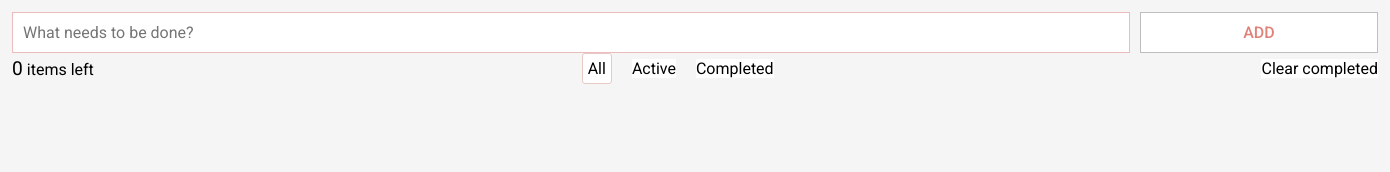
Test: TodoPage component › should delete completed todos when the "Clear completed" button is clicked
This screenshot has width=1390, height=172.
Type "Todo 1" into the field with test id "input" at (571, 32), box [12,12,1130,53]
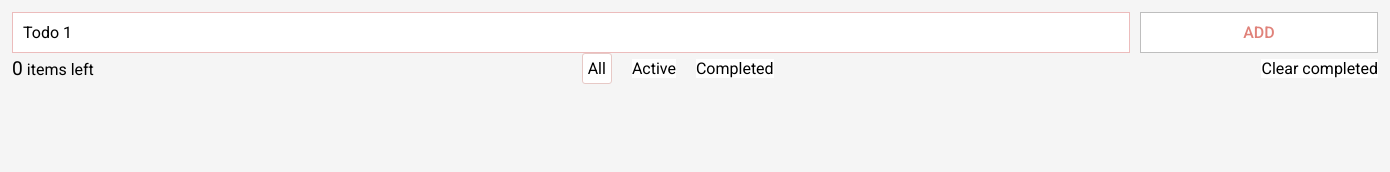
Click the button "Add" at (1259, 32), box [1140,12,1378,53]
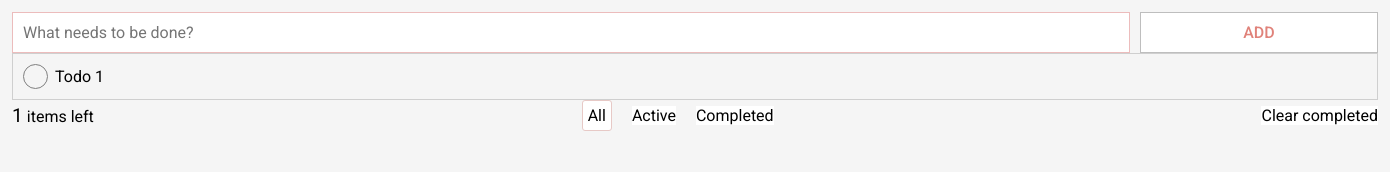
Click the checkbox with test id "checkbox" at (36, 76), box [23,64,48,89]
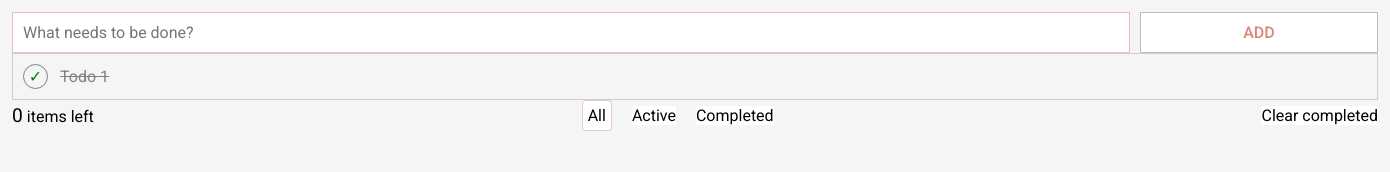
Click the button "Clear completed" at (1320, 116), box [1262,106,1378,125]
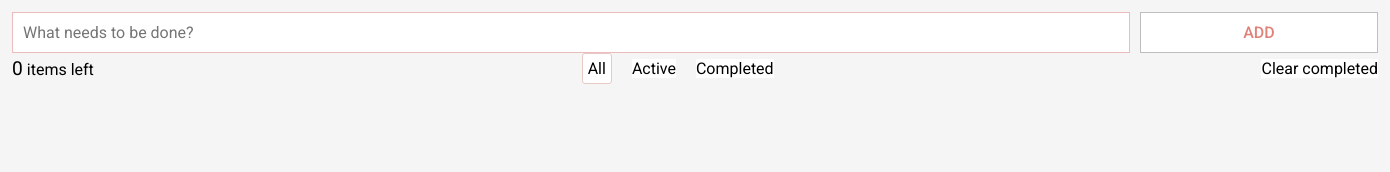
Now the text "Todo 1" is gone
